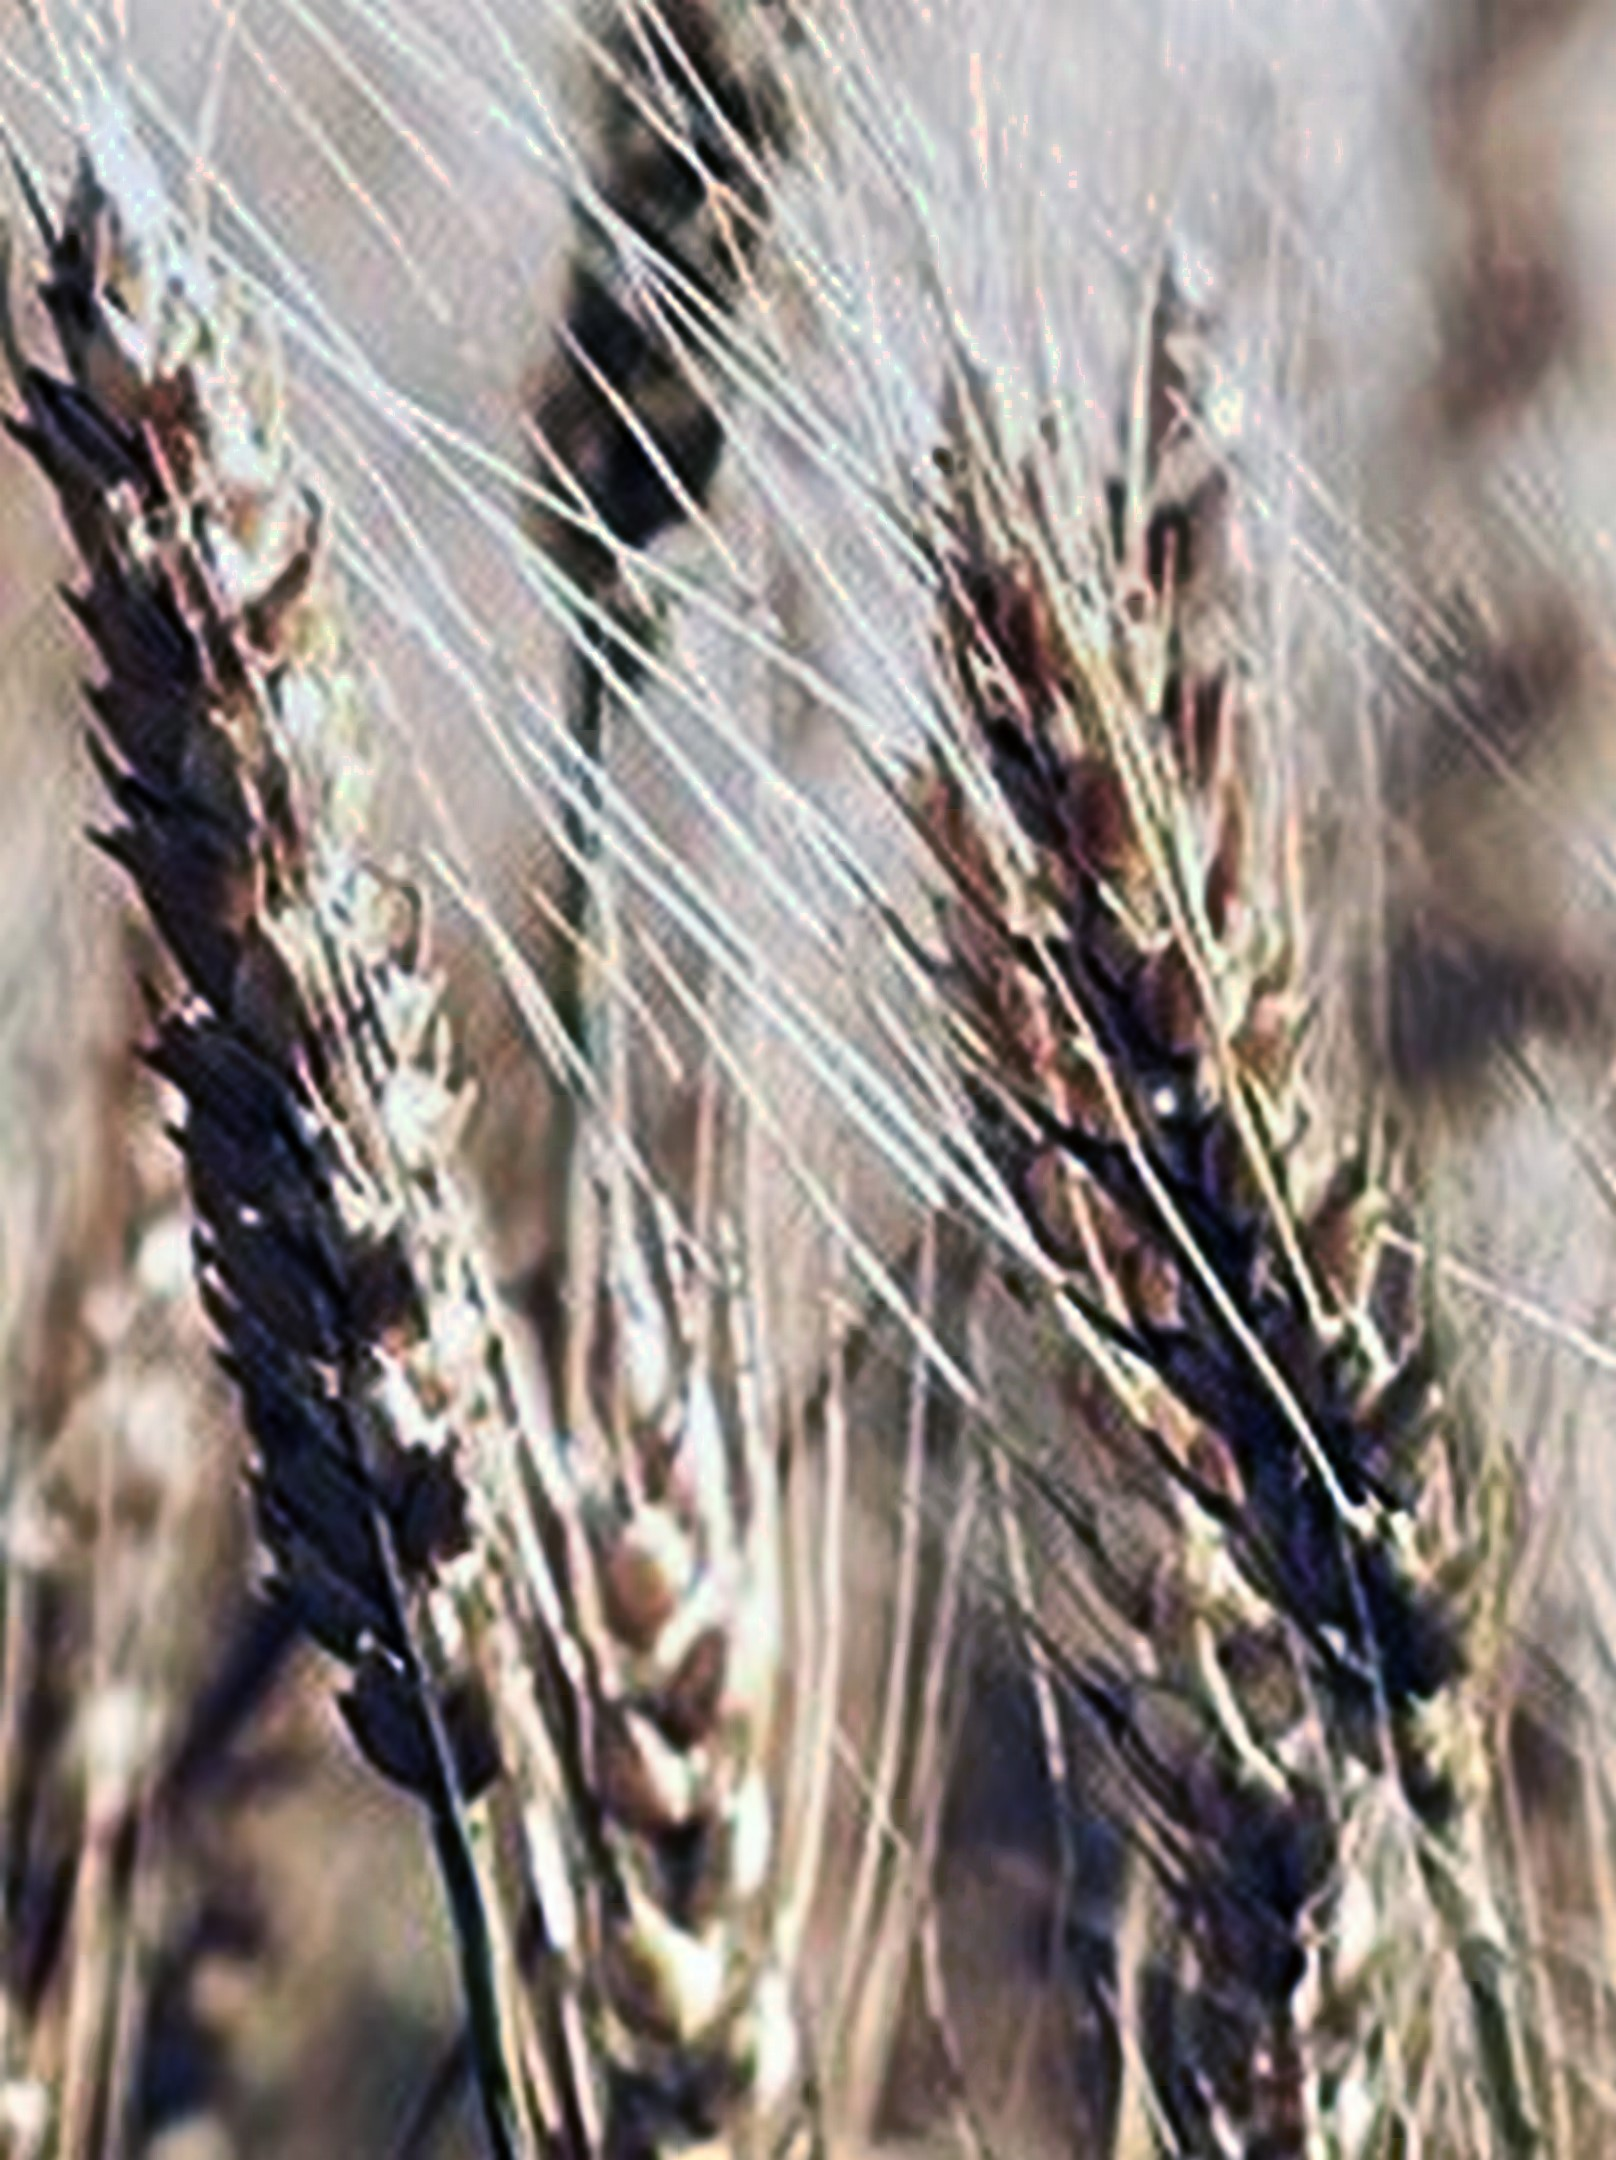Healthy Wheat: (24, 143, 557, 1754)
